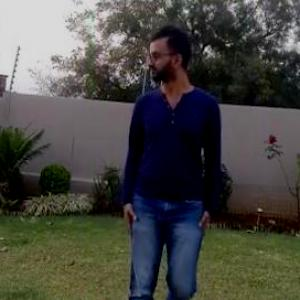follow: (108, 11, 233, 299)
